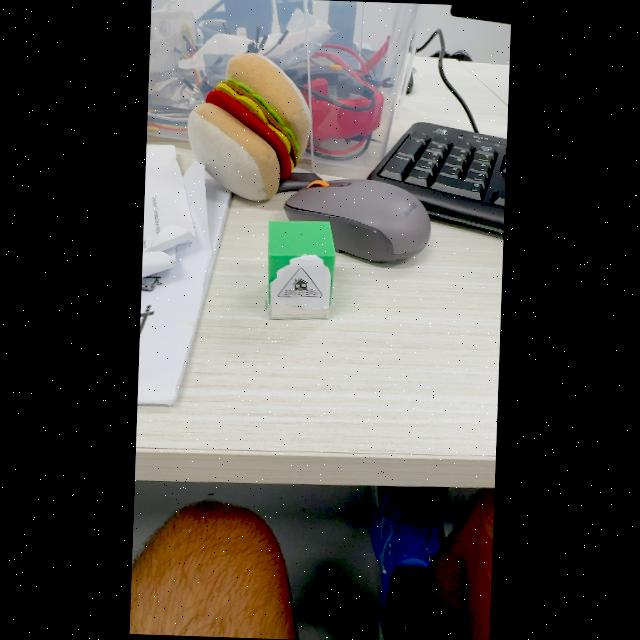Tsunami: (278, 268, 321, 297)
